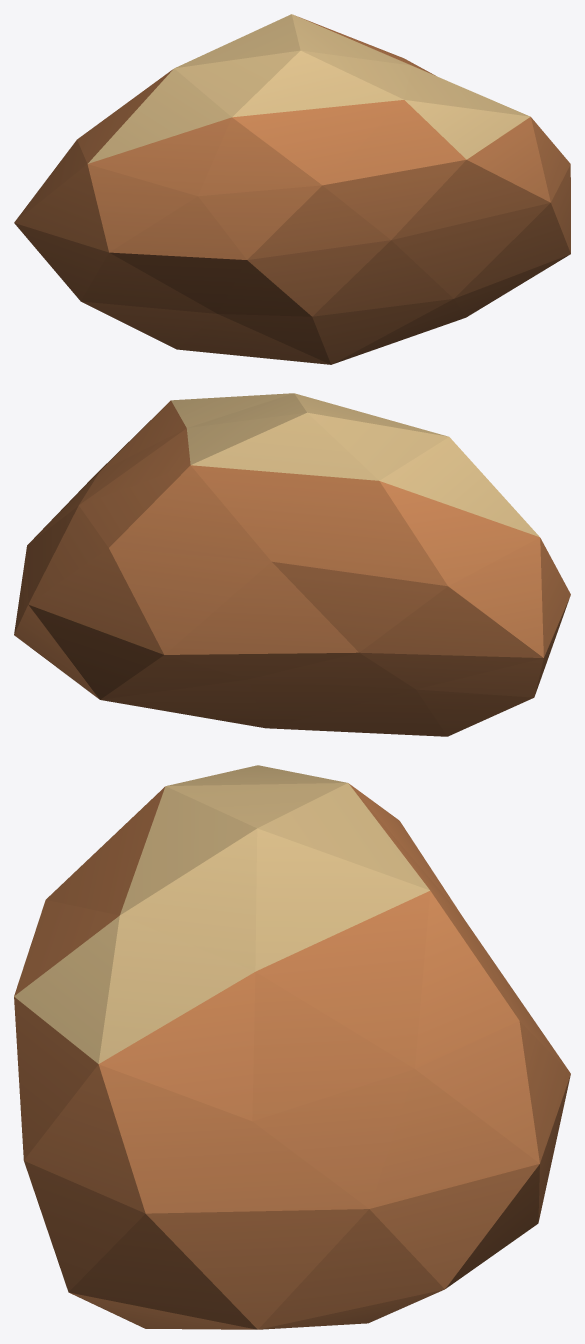
The model's file is rock_sandstone_01.glb.
The picture shows the model from 3 angles, top to bottom: view 1: azimuth 30°, elevation 25°; view 2: azimuth 150°, elevation 25°; view 3: azimuth 270°, elevation 25°; orthographic projection. The views are drawn at different scales.
Parts seen in each view (by area): view 1: rock_sandstone_01_LOD0; view 2: rock_sandstone_01_LOD0; view 3: rock_sandstone_01_LOD0.
Boxes of the visible parts, x1,y1,x2,y2 form: rock_sandstone_01_LOD0: (14, 14, 570, 364); rock_sandstone_01_LOD0: (14, 393, 570, 736); rock_sandstone_01_LOD0: (14, 765, 570, 1329).
Size of what is drawn, in the model's own units: 1.64 by 0.9307 by 1.08.
1 material, 1 textured.
